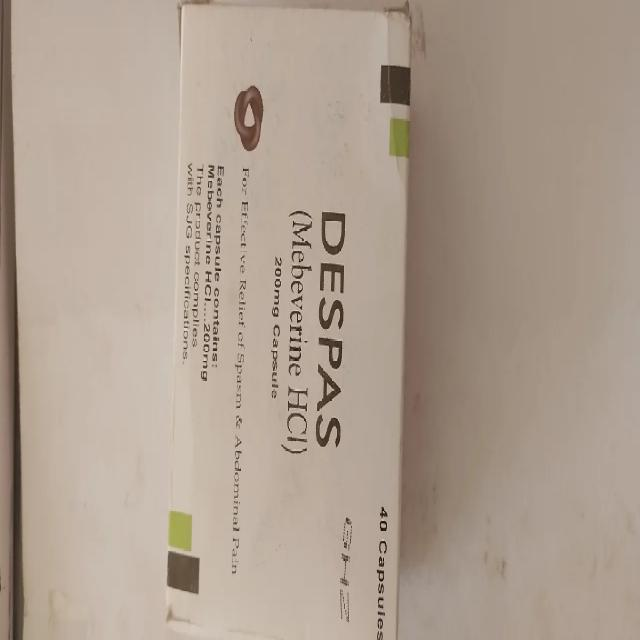drug-name: (316, 207, 348, 448)
